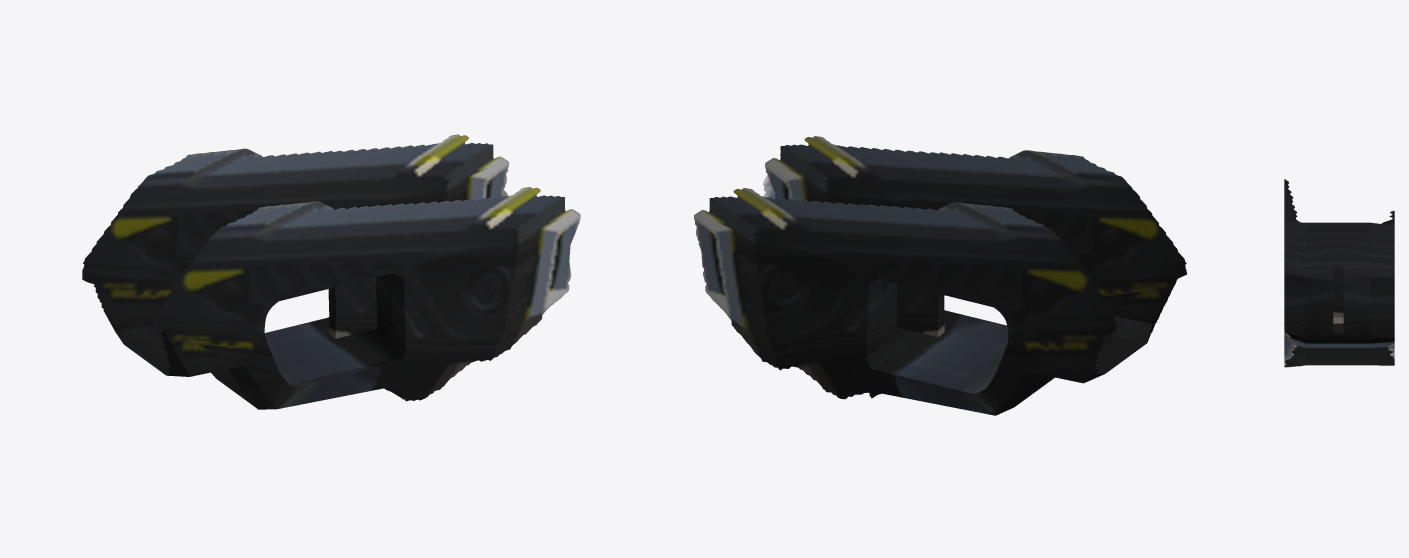
The model's file is TaserGun.FBX.
The picture shows the model from 3 angles, left to right: view 1: azimuth 30°, elevation 25°; view 2: azimuth 150°, elevation 25°; view 3: azimuth 270°, elevation 25°; orthographic projection. The views are drawn at different scales.
Parts seen in each view (by area): view 1: Line001; view 2: Line001; view 3: Line001.
Boxes of the visible parts, x1,y1,x2,y2 form: Line001: (82,134,580,409); Line001: (694,136,1186,415); Line001: (1284,179,1394,367).
Size of the model in its own units: 233 by 192 by 51.05.
